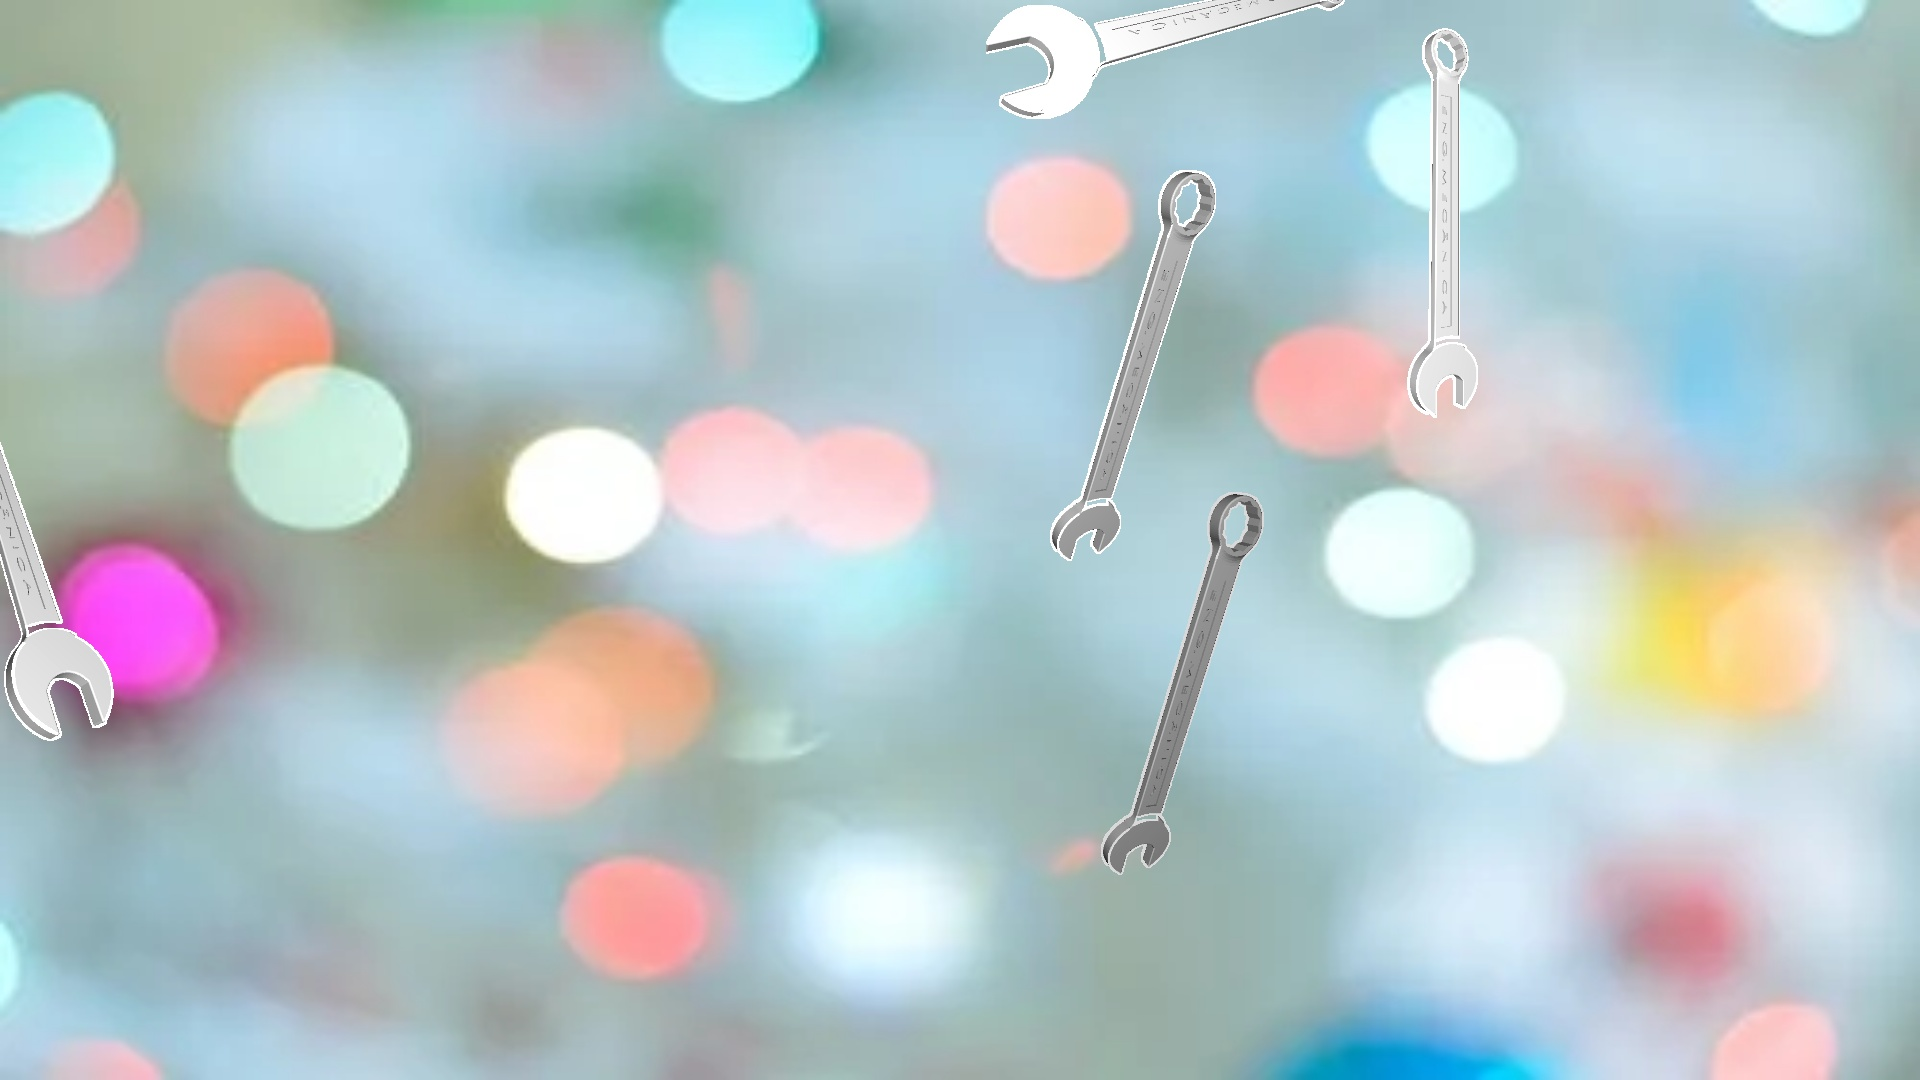Mixed Key: (1050, 170, 1215, 560), (1101, 492, 1263, 874), (986, 0, 1344, 117), (0, 442, 113, 740), (1407, 28, 1477, 417)
